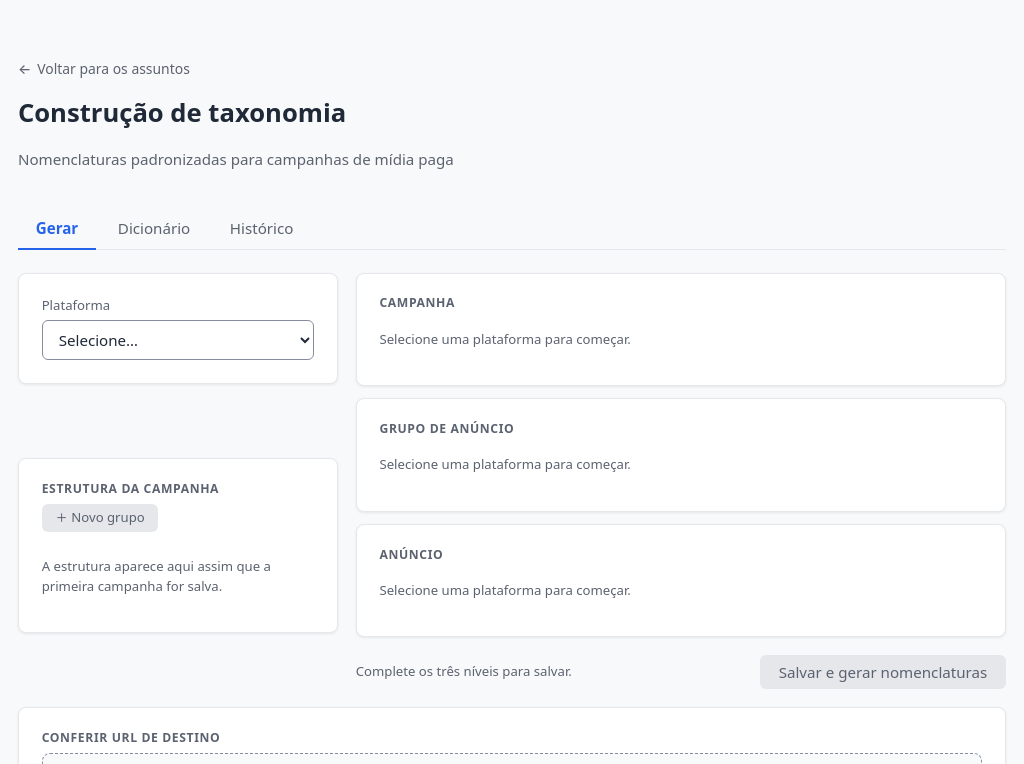
Test: aba Dicionário › lista os termos cadastrados com o De → Para
Check: the tab "Gerar" is shown, box [18,209,96,250]
Click the tab "Dicionário".
click(154, 229)  # box [100,209,208,250]
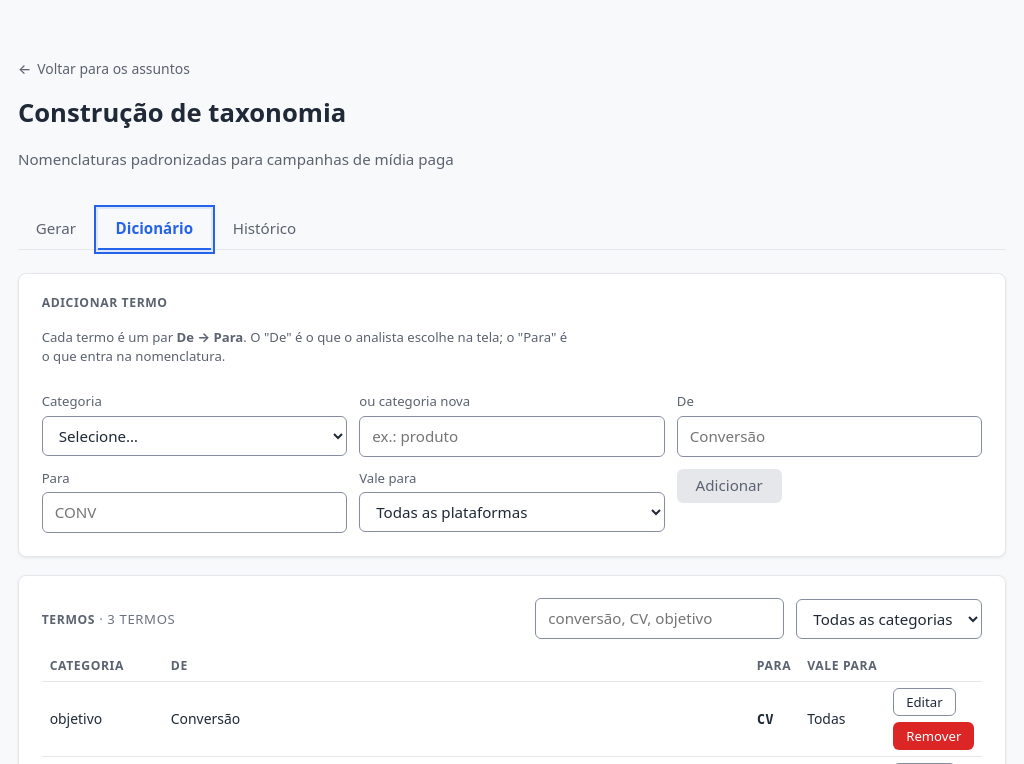
Check: the text "Conversão" is shown, box [163,682,749,757]
